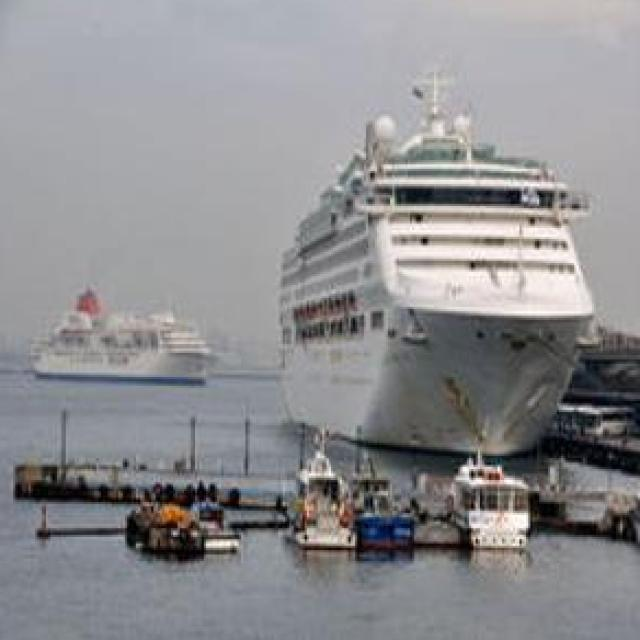fishing boat: (124, 497, 206, 558)
houseboat: (190, 492, 244, 556)
passenger ship: (280, 65, 590, 450), (29, 287, 217, 383), (451, 454, 538, 554), (287, 451, 360, 551)
